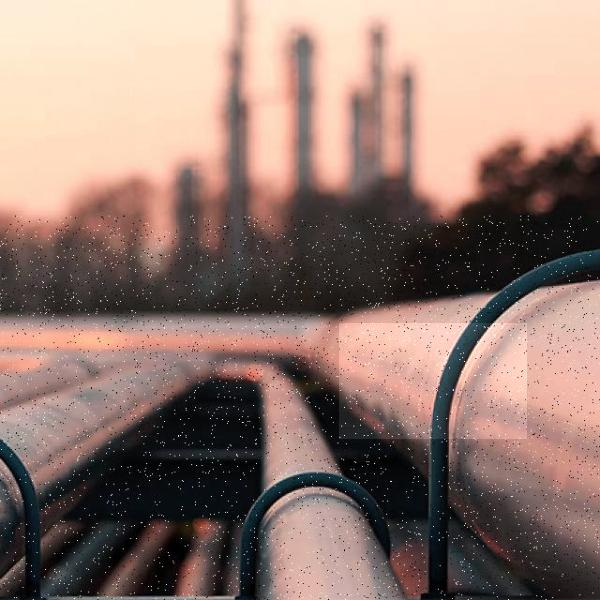no leak: (339, 323, 527, 439)
